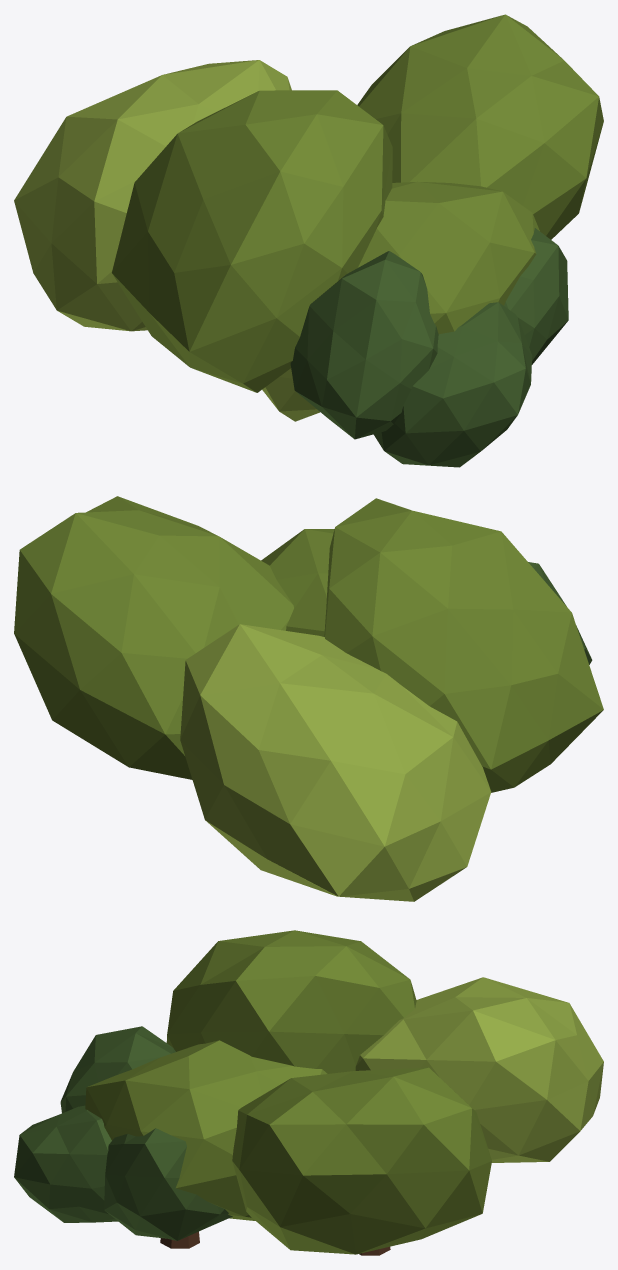
The model's file is 87_broad_woodland_bush.fbx.
The picture shows the model from 3 angles, top to bottom: view 1: azimuth 30°, elevation 25°; view 2: azimuth 150°, elevation 25°; view 3: azimuth 270°, elevation 25°; orthographic projection. The views are drawn at different scales.
Visible parts, largest first — view 1: 87_broad_woodland_bush; view 2: 87_broad_woodland_bush; view 3: 87_broad_woodland_bush.
Part boxes in pixels (left/top/right/bottom): 87_broad_woodland_bush: left=14, top=14, right=603, bottom=467; 87_broad_woodland_bush: left=14, top=496, right=603, bottom=901; 87_broad_woodland_bush: left=14, top=930, right=603, bottom=1255.
Bounding box in the file's own units: 1.82 × 1.11 × 2.17.
Materials: 1 (1 with a texture image).
